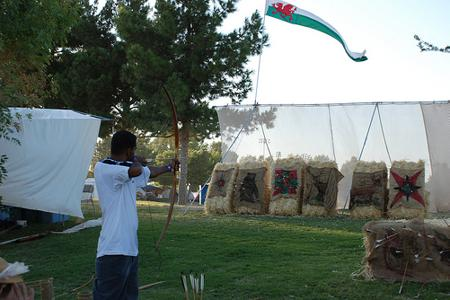person: (95, 131, 180, 300)
